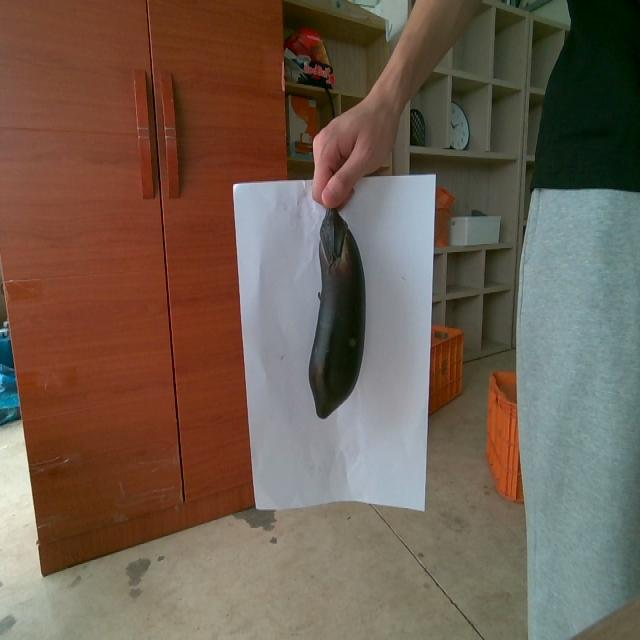Egg plant: (309, 208, 365, 417)
